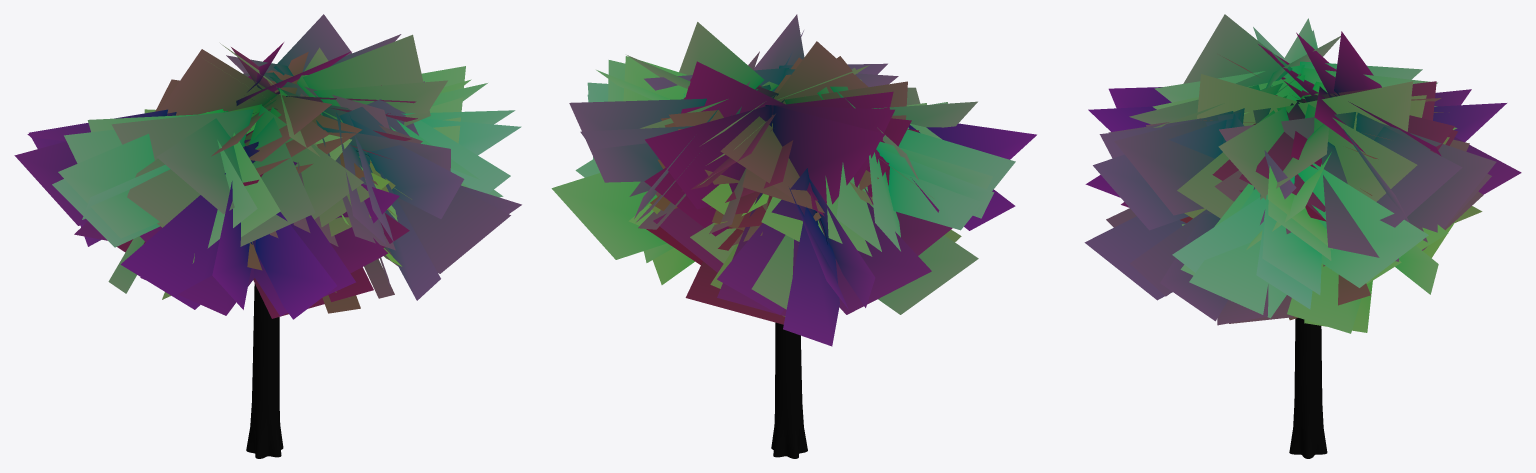
File: PalmTree.fbx
The picture shows the model from 3 angles, left to right: view 1: azimuth 30°, elevation 25°; view 2: azimuth 150°, elevation 25°; view 3: azimuth 270°, elevation 25°; orthographic projection.
Parts seen in each view (by area): view 1: _1, _0; view 2: _1, _0; view 3: _1, _0.
Part boxes in pixels (left/top/right/bottom): _1: left=14, top=14, right=521, bottom=319; _0: left=246, top=150, right=369, bottom=458; _1: left=551, top=14, right=1036, bottom=346; _0: left=771, top=165, right=889, bottom=458; _1: left=1084, top=14, right=1521, bottom=333; _0: left=1289, top=318, right=1327, bottom=458.
Size of the model in its own units: 782 by 638 by 696.
